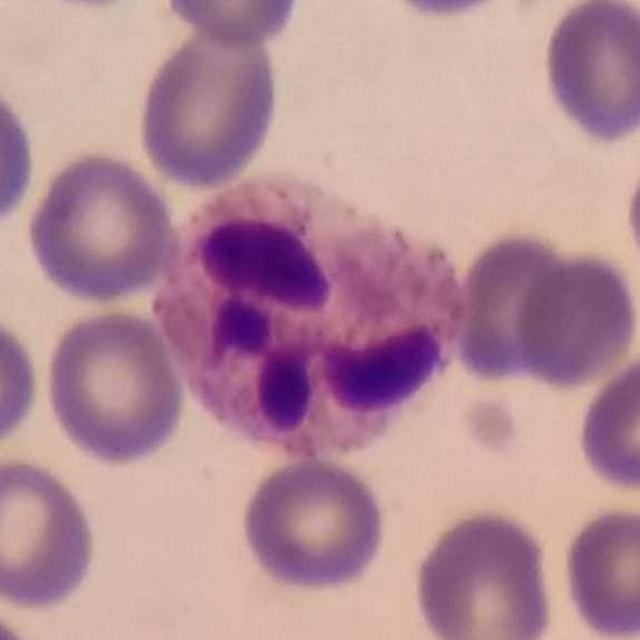Neutrophil: (149, 159, 481, 479)
RBC: (133, 17, 284, 191), (22, 147, 180, 306), (40, 305, 189, 470), (236, 454, 392, 596), (448, 228, 586, 388), (408, 504, 560, 640), (511, 246, 639, 391), (0, 451, 102, 612), (538, 0, 640, 147), (557, 502, 640, 640), (572, 346, 640, 497), (158, 0, 308, 51), (0, 310, 45, 458), (0, 71, 40, 237), (621, 138, 640, 295), (389, 0, 497, 24)
